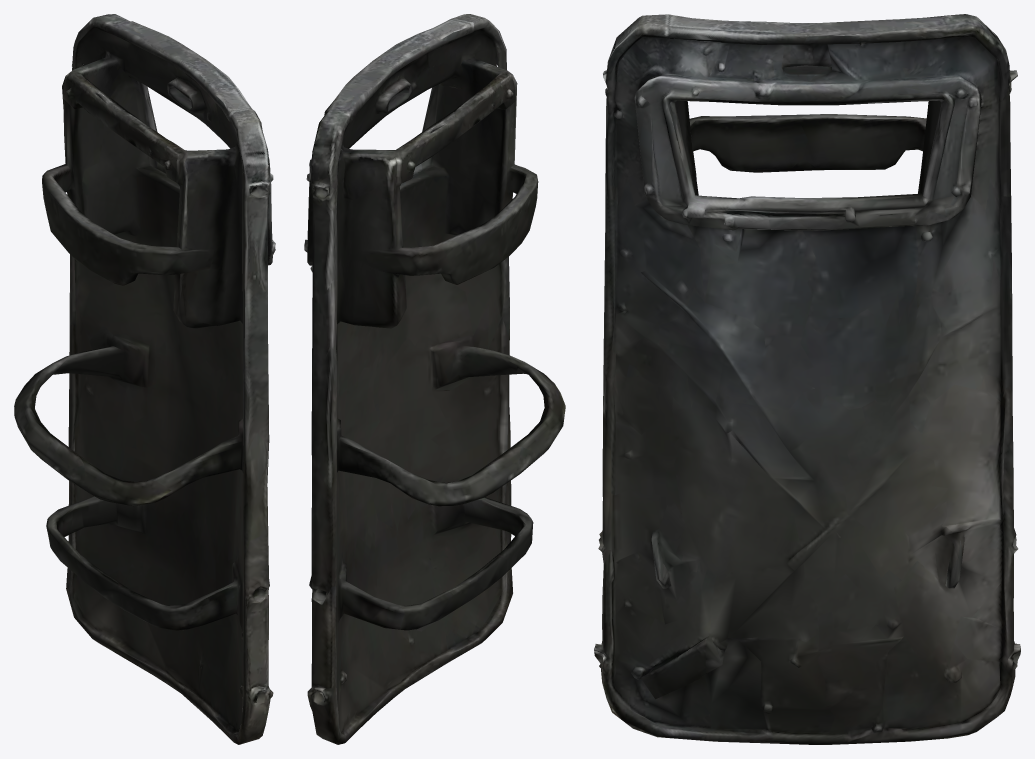
Rendered from w_shield.glb.
The picture shows the model from 3 angles, left to right: view 1: azimuth 30°, elevation 25°; view 2: azimuth 150°, elevation 25°; view 3: azimuth 270°, elevation 25°; orthographic projection. The views are drawn at different scales.
Parts seen in each view (by area): view 1: tripo_node_ebec8ac1-3357-43c1-a5c8-cc04fdbcf4c5; view 2: tripo_node_ebec8ac1-3357-43c1-a5c8-cc04fdbcf4c5; view 3: tripo_node_ebec8ac1-3357-43c1-a5c8-cc04fdbcf4c5.
Part boxes in pixels (x1=…): tripo_node_ebec8ac1-3357-43c1-a5c8-cc04fdbcf4c5: x1=14, y1=14, x2=275, y2=744; tripo_node_ebec8ac1-3357-43c1-a5c8-cc04fdbcf4c5: x1=304, y1=14, x2=565, y2=744; tripo_node_ebec8ac1-3357-43c1-a5c8-cc04fdbcf4c5: x1=594, y1=14, x2=1020, y2=744.
Bounding box in the file's own units: 0.2784 × 0.9796 × 0.5284.
1 material, 1 textured.
